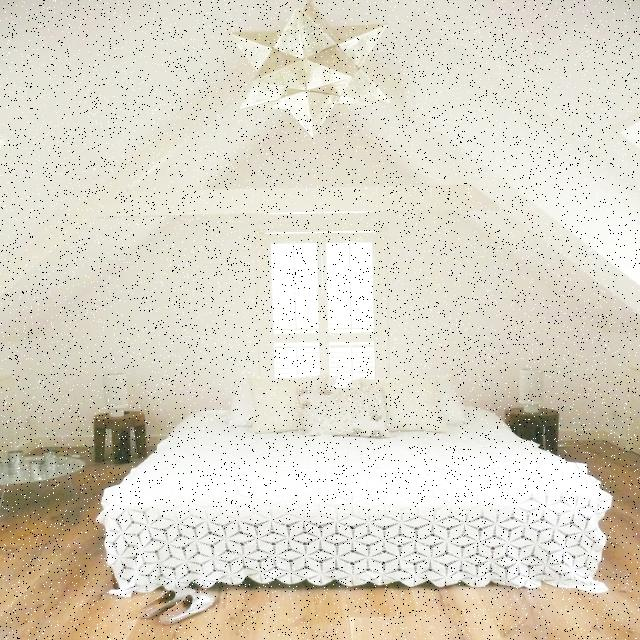bed: (110, 378, 604, 584)
